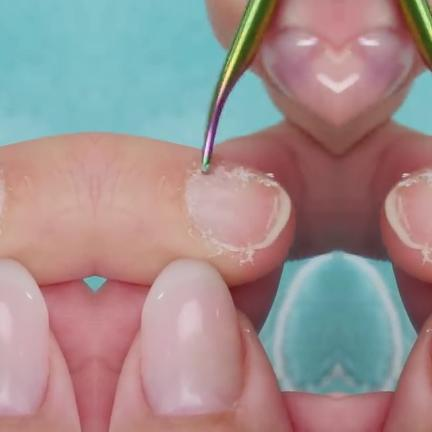Nail: (139, 258, 242, 416), (183, 164, 291, 251), (0, 258, 49, 416), (260, 28, 336, 127), (338, 28, 414, 127), (383, 167, 432, 251), (0, 175, 5, 218), (432, 355, 432, 367)
